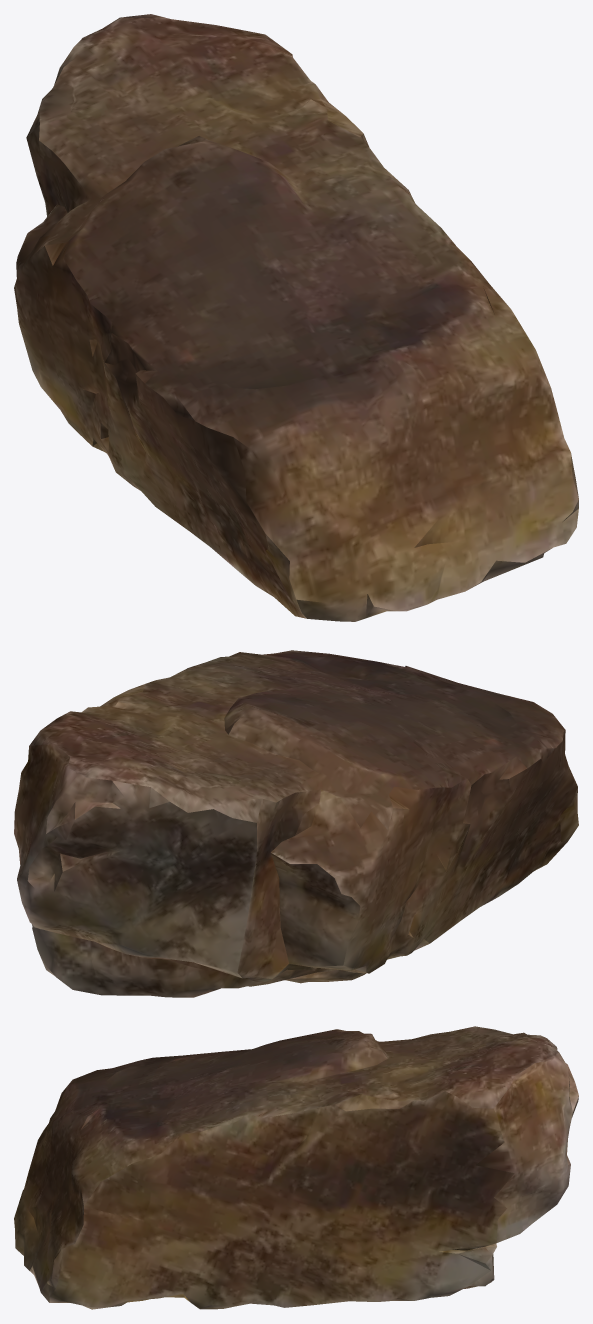
File: rock-small.glb
The picture shows the model from 3 angles, top to bottom: view 1: azimuth 30°, elevation 25°; view 2: azimuth 150°, elevation 25°; view 3: azimuth 270°, elevation 25°; orthographic projection. The views are drawn at different scales.
Visible parts, largest first — view 1: rock-small; view 2: rock-small; view 3: rock-small.
Boxes of the visible parts, x1=… form: rock-small: x1=14, y1=14, x2=578, y2=621; rock-small: x1=14, y1=650, x2=578, y2=997; rock-small: x1=14, y1=1026, x2=578, y2=1309.
Size of the model in its own units: 0.168 by 0.1436 by 0.3206.
1 material, 1 textured.
